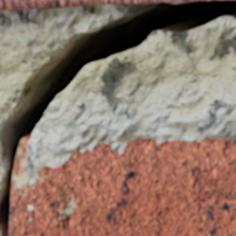brick: (9, 138, 235, 235), (0, 0, 223, 10)
crack: (0, 0, 235, 235)
